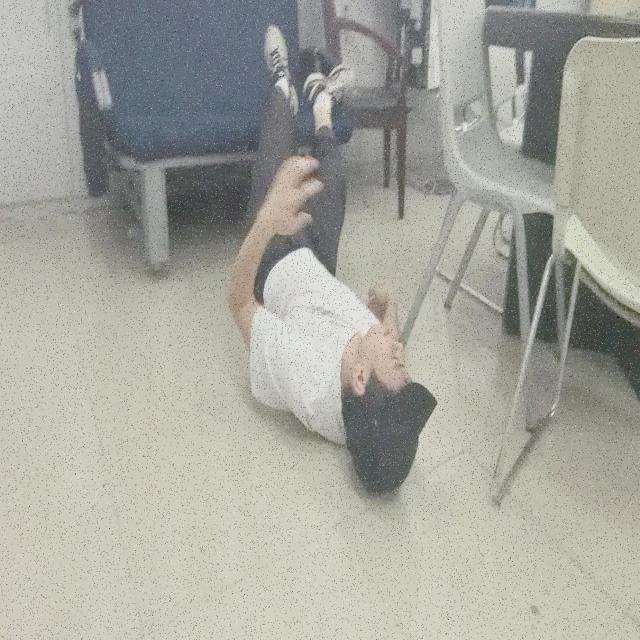fall: (226, 22, 441, 500)
